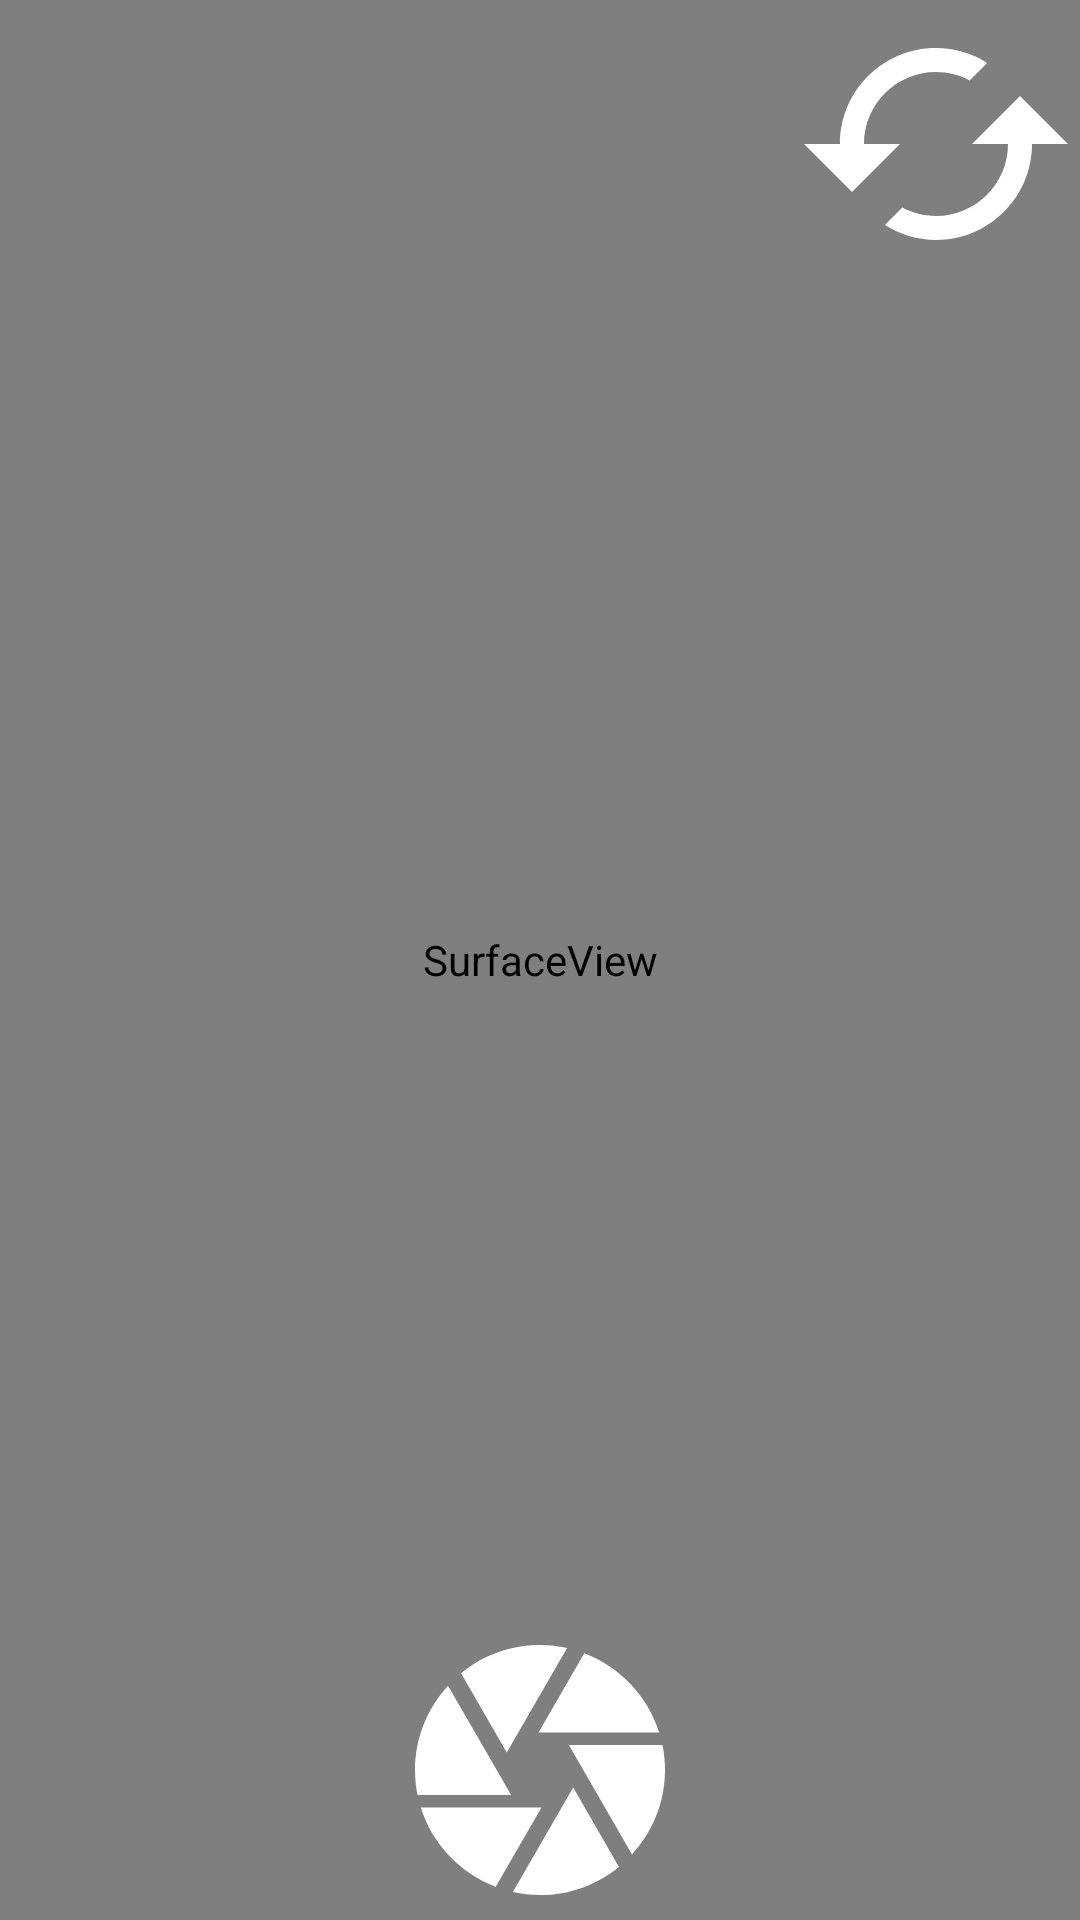

Named icons in this screenshot (1080*1920) and their centers, (x,y):
camera: (540,1770)
switch: (936,144)
